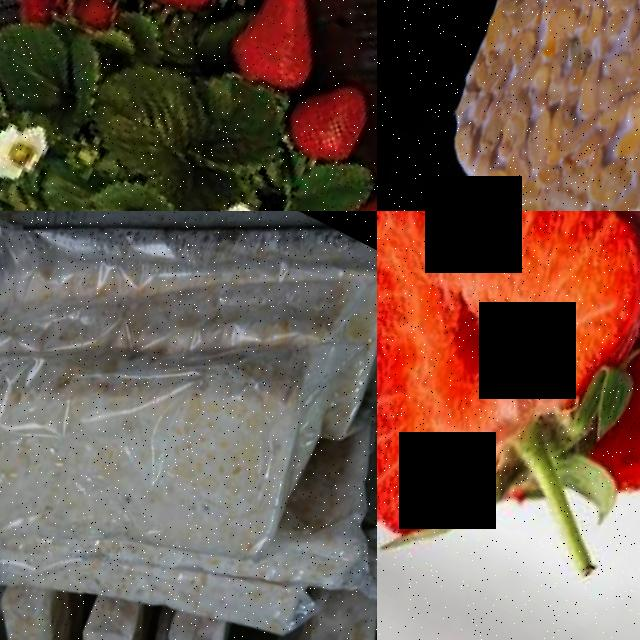strawberry: (377, 211, 640, 592), (566, 299, 640, 536), (219, 0, 346, 110), (278, 65, 377, 174)
tempeh: (69, 293, 354, 596), (405, 0, 640, 211), (0, 318, 120, 581), (265, 411, 377, 601), (264, 569, 377, 640)
